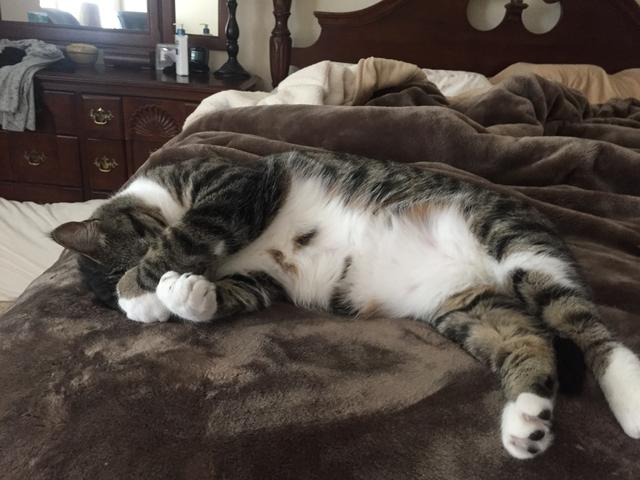playdoh: (47, 153, 640, 460)
